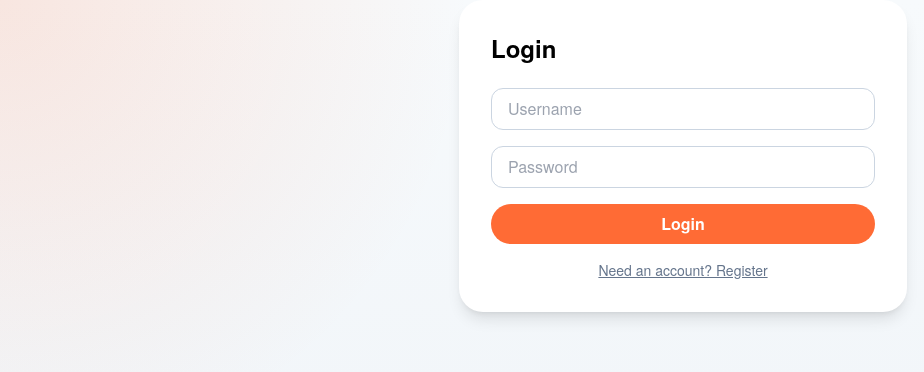
Test: LoginPage › shows error message on failed authentication
Type "alice" into the field with placeholder "Username".
click(683, 109); type("alice")  # box [491,88,875,130]
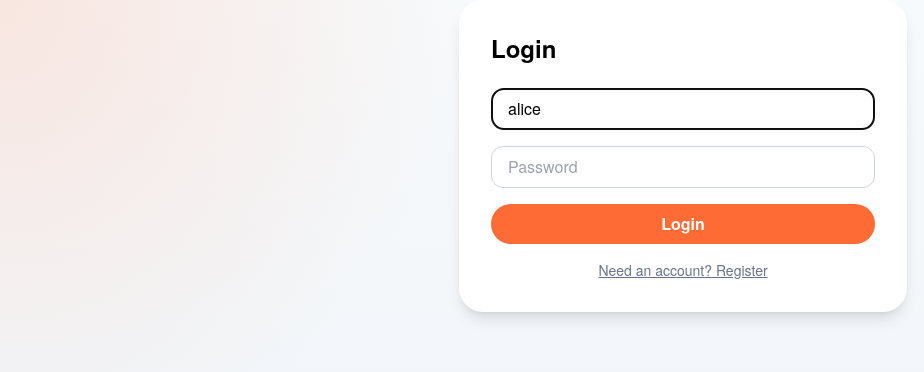
Type "wrong" into the password field with placeholder "Password".
click(683, 167); type("wrong")  # box [491,146,875,188]
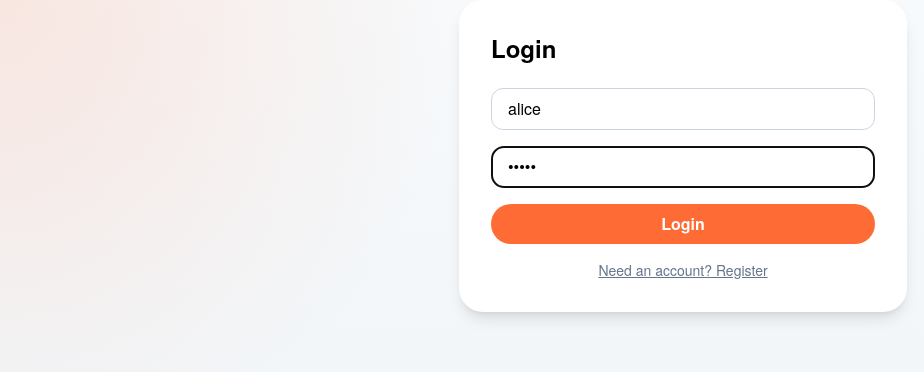
Click the button "Login".
click(683, 224)  # box [491,204,875,244]
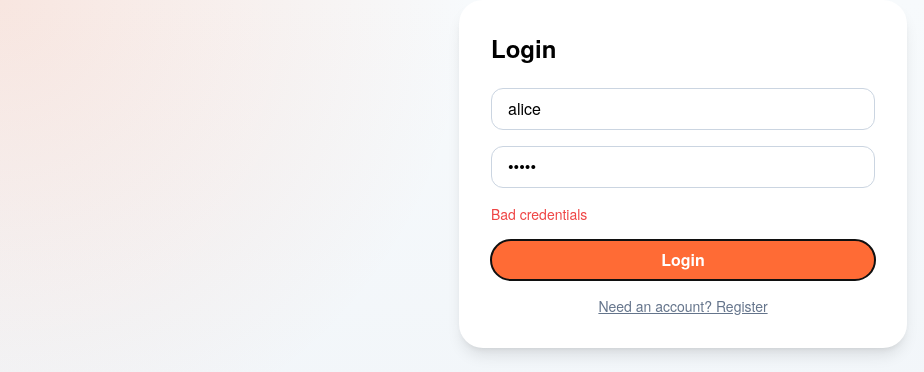
Now the text "Bad credentials" is shown, box [491,204,587,224]
